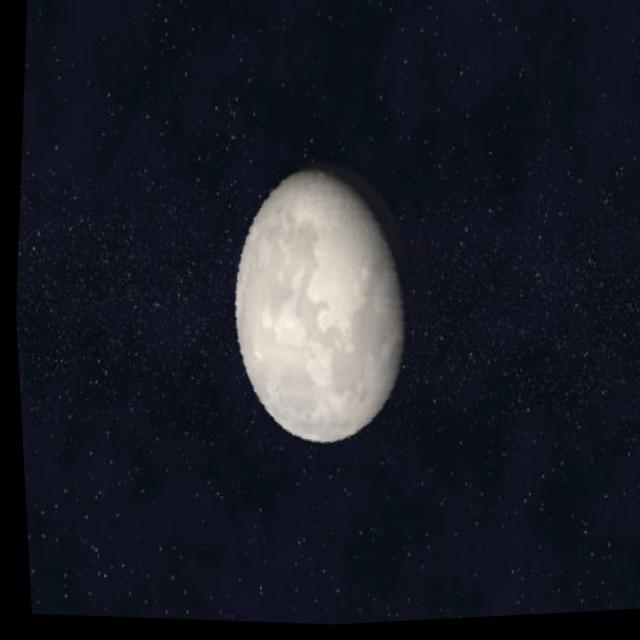moon: (210, 153, 451, 491)
